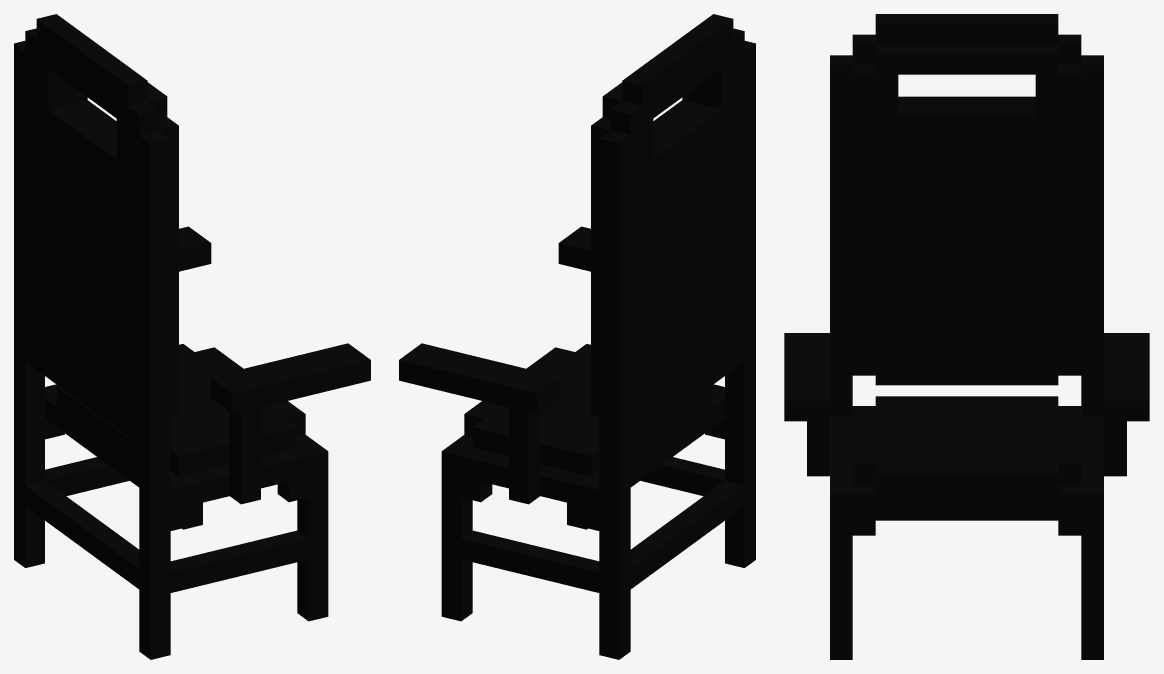
Rendered from Reschair_3.obj.
3 views of the same model, side by side, from view 1: azimuth 30°, elevation 25°; view 2: azimuth 150°, elevation 25°; view 3: azimuth 270°, elevation 25° (orthographic).
Bounding box in the file's own units: 1 × 2.7 × 1.6.
